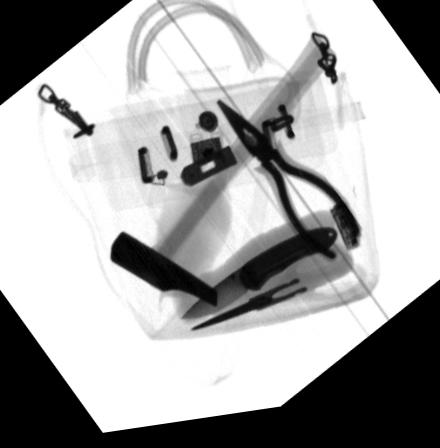Hammer: (108, 42, 337, 315)
Knife: (180, 234, 340, 326)
Pliers: (214, 104, 363, 275)
Scissors: (187, 252, 369, 338)
